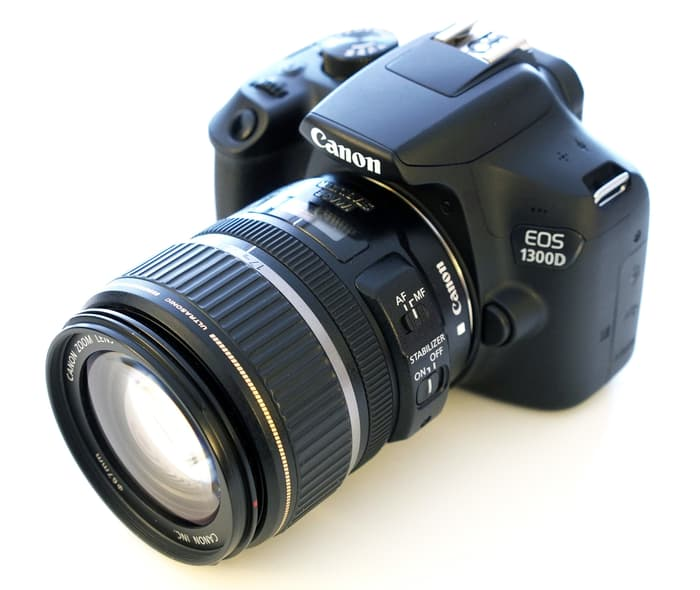kamera: (36, 18, 651, 571)
